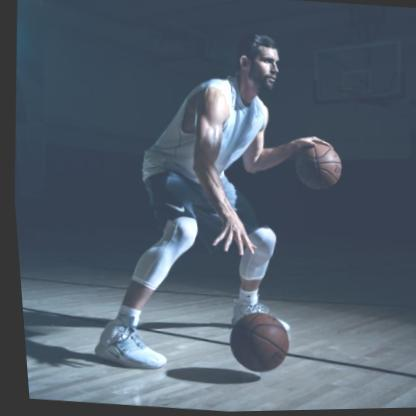basketball: (219, 310, 288, 376), (289, 143, 343, 194)
